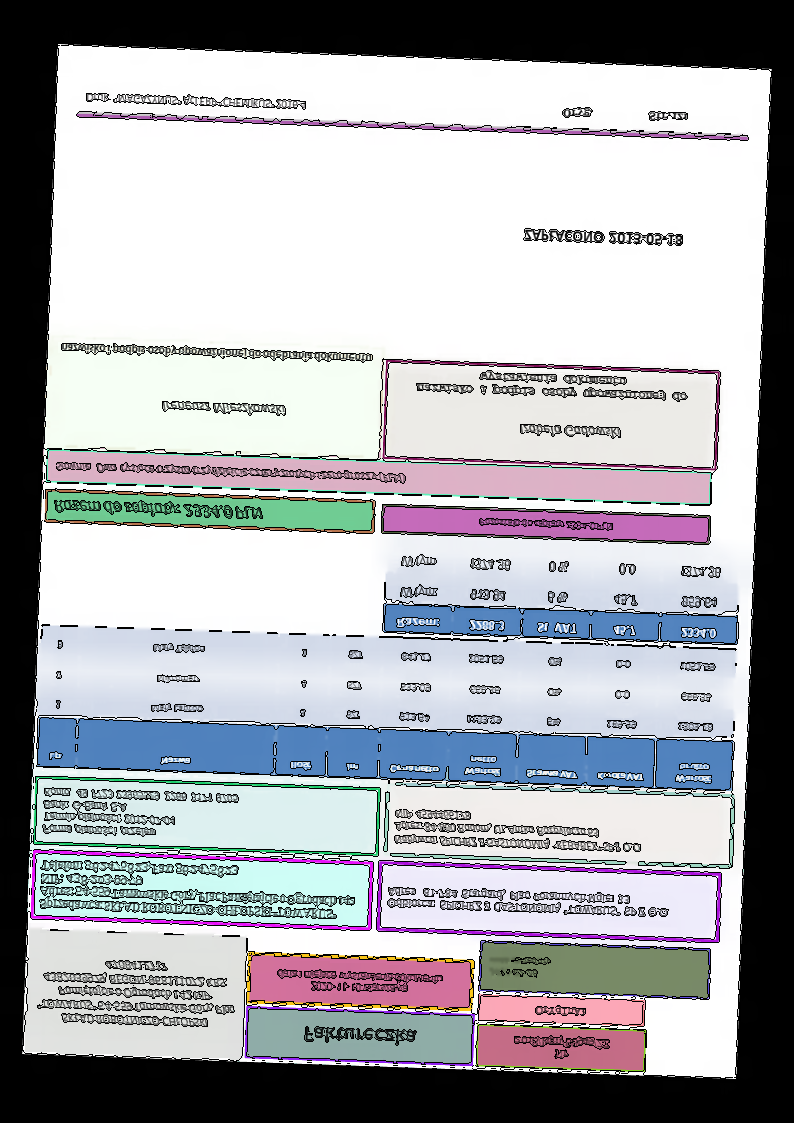Table: (35, 624, 739, 793), (381, 540, 742, 646)
TextBox: (37, 857, 360, 924), (34, 953, 241, 1032), (392, 806, 648, 856), (40, 785, 241, 844), (383, 883, 674, 922), (413, 367, 691, 406), (54, 458, 406, 487), (58, 339, 374, 368), (51, 495, 265, 525), (84, 87, 307, 114), (274, 967, 446, 997), (519, 226, 688, 251), (510, 1031, 612, 1064), (158, 396, 287, 421), (302, 1023, 418, 1048), (560, 105, 692, 126), (476, 516, 617, 535), (517, 419, 624, 444), (486, 951, 554, 981), (532, 1002, 588, 1020)
